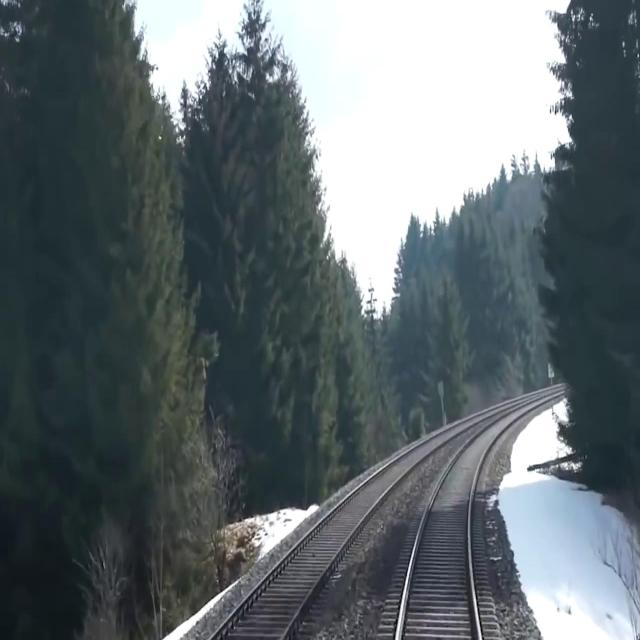rail-track: (214, 436, 441, 639), (400, 416, 510, 639)
